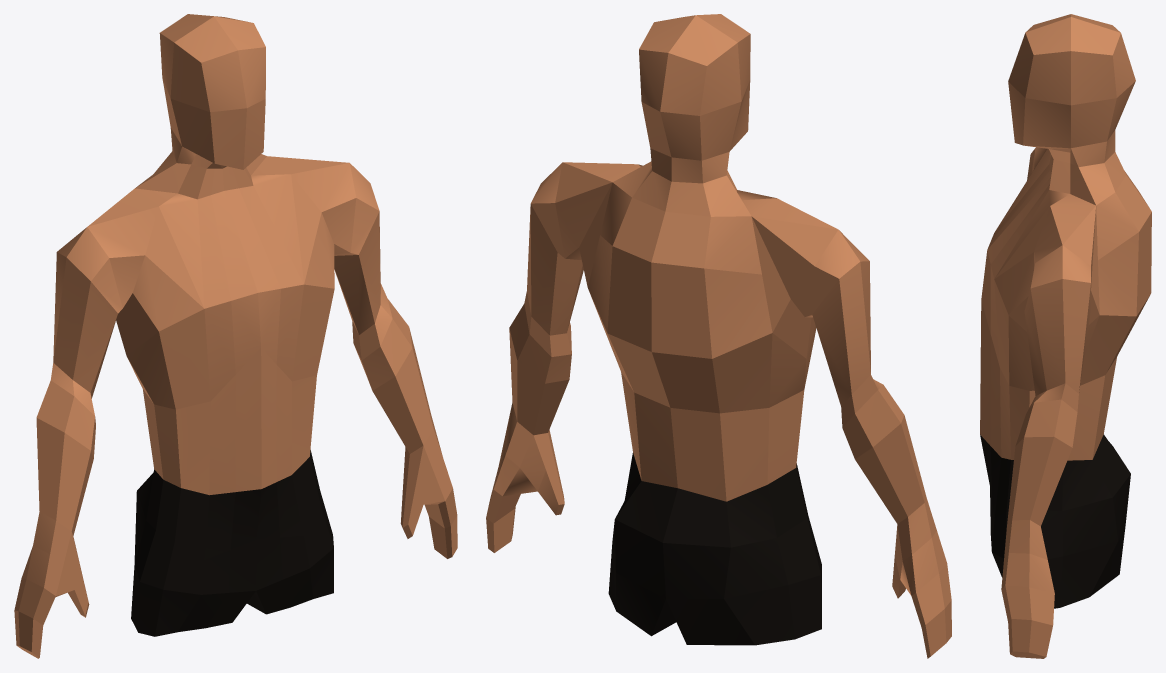
The model's file is SM_CentaurTorso.FBX.
3 renders of one model, left to right at view 1: azimuth 30°, elevation 25°; view 2: azimuth 150°, elevation 25°; view 3: azimuth 270°, elevation 25°, orthographic. The views are drawn at different scales.
Visible parts, largest first — view 1: SM_CentaurTorso; view 2: SM_CentaurTorso; view 3: SM_CentaurTorso.
Boxes of the visible parts, bbox=[...] form: SM_CentaurTorso: bbox=[14, 14, 457, 658]; SM_CentaurTorso: bbox=[486, 14, 951, 658]; SM_CentaurTorso: bbox=[980, 14, 1151, 658].
Bounding box in the file's own units: 119 × 42.92 × 151.
